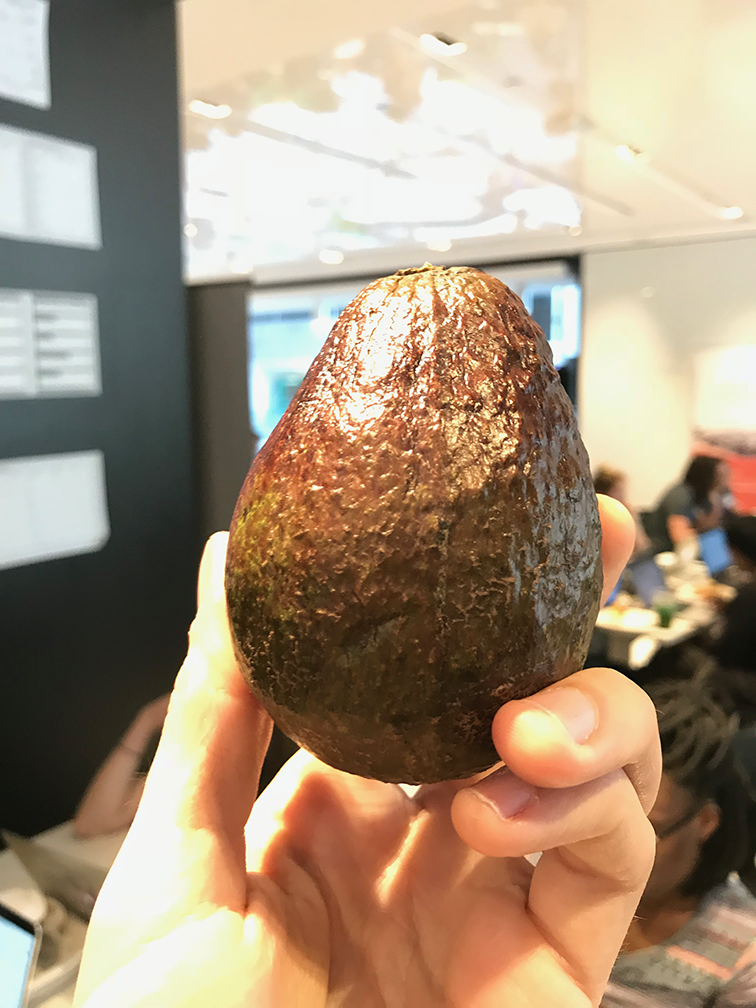avocado: (230, 253, 621, 811)
